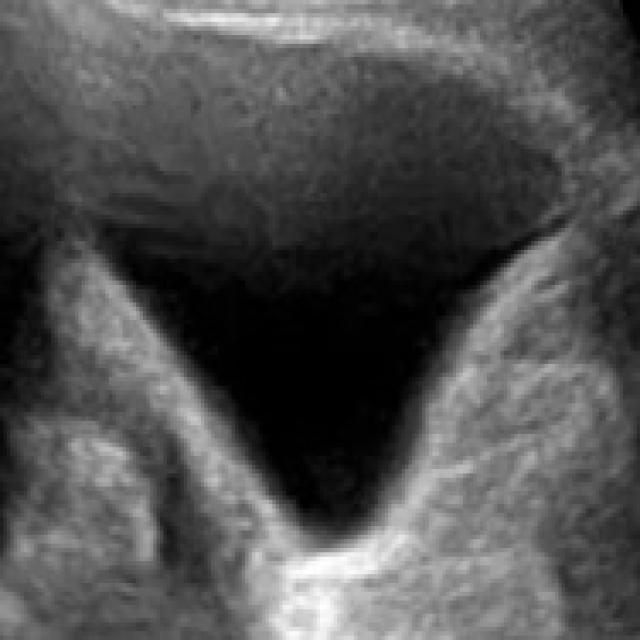bladder: (46, 10, 614, 614)
